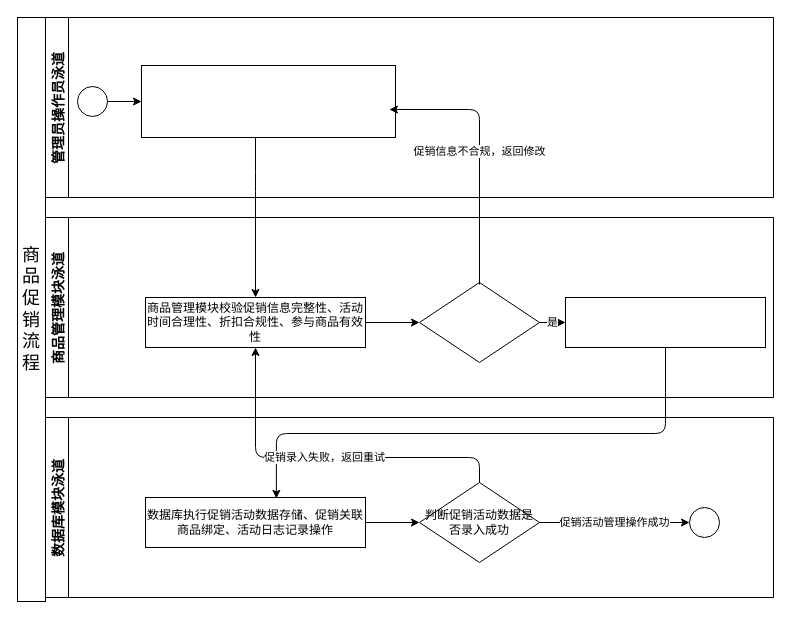
This 791x619 diagram has some shape labels left out. The box of each missing label's shape, as (x1, y1, x2, y2) in pixels:
判断促销活动信息是否合规有效: (418, 282, 540, 362)
商品管理模块向数据库提交促销活动数据新增/更新请求: (564, 296, 766, 348)
管理员选择促销操作类型（新增促销活动/编辑促销活动/下架促销活动），填写促销活动信息（活动名称、参与商品、促销折扣力度、活动开始时间、活动结束时间、活动规则）: (140, 64, 396, 138)
